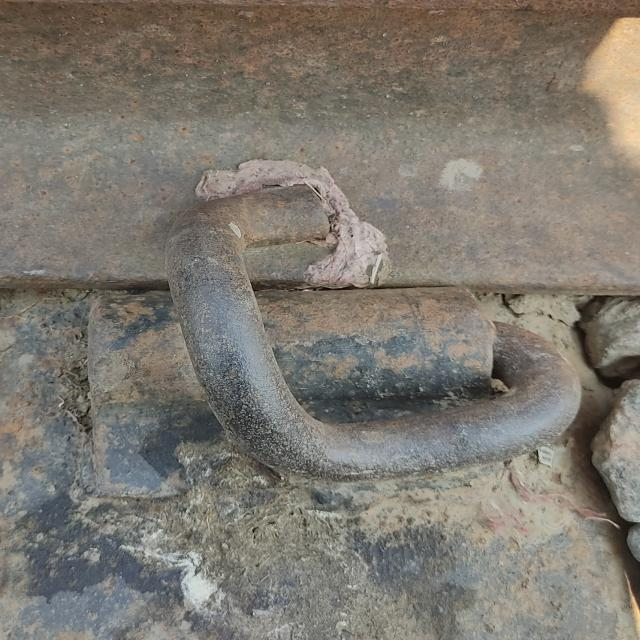track_bolt: (158, 184, 590, 488)
